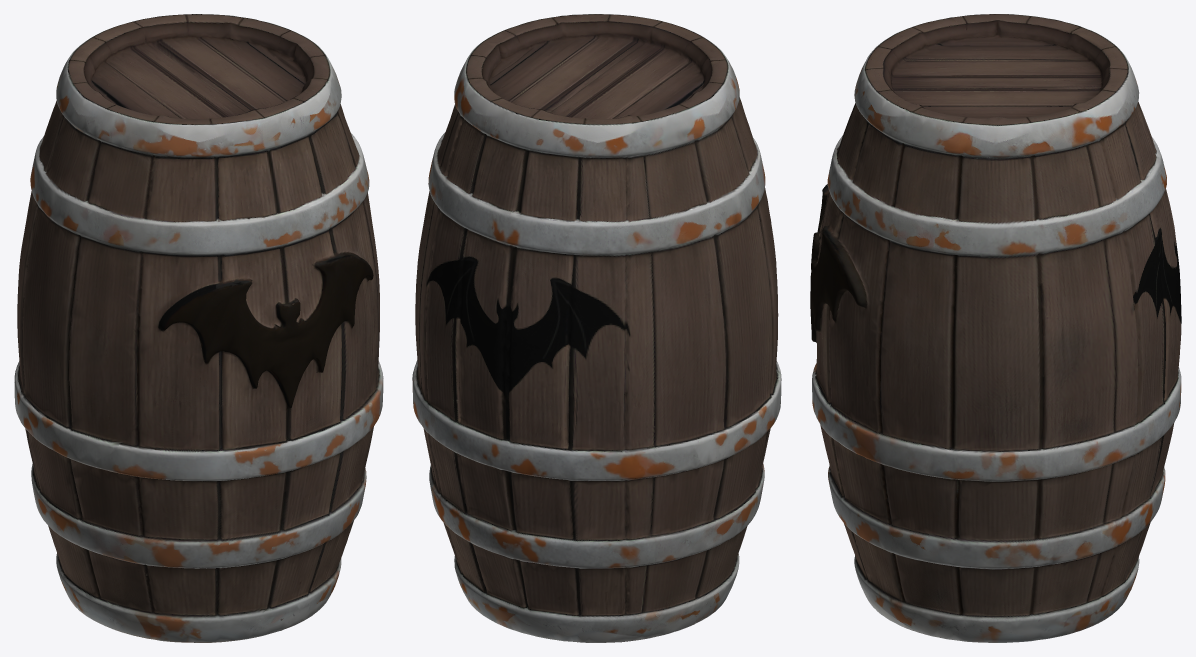
The picture shows the model from 3 angles, left to right: view 1: azimuth 30°, elevation 25°; view 2: azimuth 150°, elevation 25°; view 3: azimuth 270°, elevation 25°; orthographic projection.
Visible parts, largest first — view 1: Mesh_0.001; view 2: Mesh_0.001; view 3: Mesh_0.001.
Boxes of the visible parts, left/top/right/bottom form: Mesh_0.001: left=14, top=14, right=383, bottom=642; Mesh_0.001: left=412, top=14, right=781, bottom=642; Mesh_0.001: left=810, top=14, right=1181, bottom=642.
Bounding box in the file's own units: 645 × 1000 × 646.
Materials: 1 (1 with a texture image).
